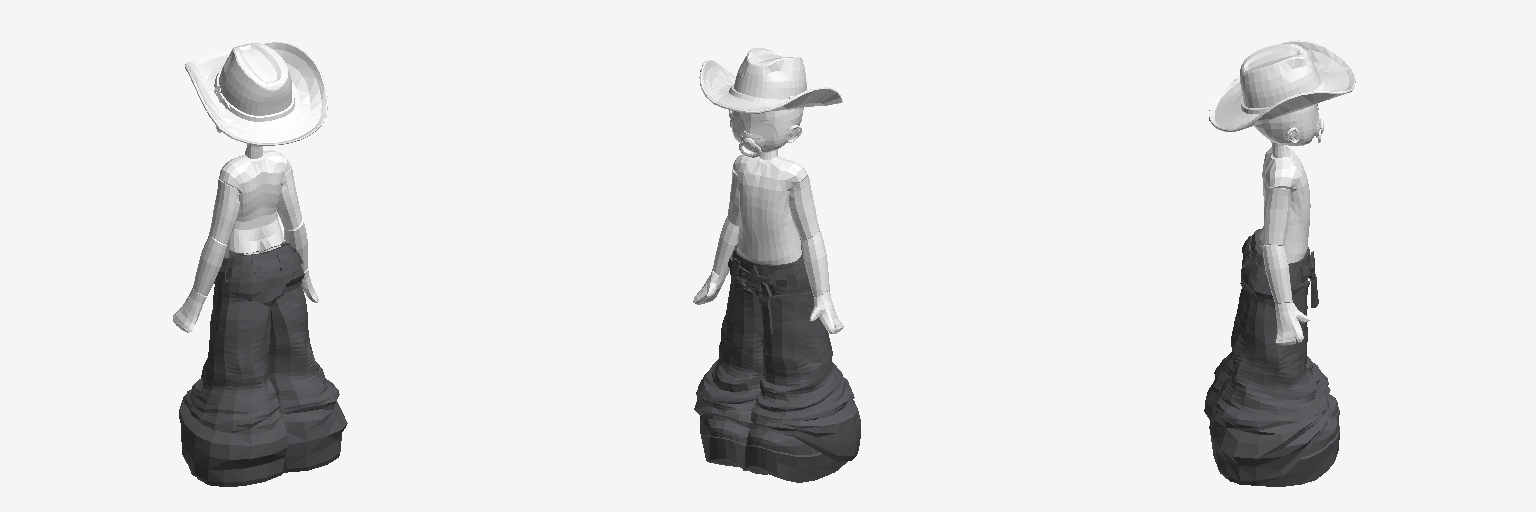
The model's file is bebo3.obj.
3 renders of one model, left to right at view 1: azimuth 30°, elevation 25°; view 2: azimuth 150°, elevation 25°; view 3: azimuth 270°, elevation 25°, orthographic.
Visible parts, largest first — view 1: Handle1, Handle3, Djbebote4, Djbebote3, Djbebote5, Djbebote8, Djbebote9, Djbebote6; view 2: Handle1, Handle3, Djbebote4, Djbebote1, Djbebote3, Djbebote5, Djbebote6, Djbebote9, Djbebote7; view 3: Handle1, Handle3, Djbebote4, Djbebote1, Djbebote8, Djbebote6, Djbebote7.
Part boxes in pixels (x1,y1,x2,y2): Handle1: (179, 242, 347, 486); Handle3: (185, 42, 327, 145); Djbebote4: (219, 150, 290, 253); Djbebote3: (209, 179, 239, 244); Djbebote5: (193, 235, 226, 295); Djbebote8: (277, 166, 301, 229); Djbebote9: (173, 288, 206, 332); Djbebote6: (284, 219, 307, 271); Handle1: (694, 239, 860, 482); Handle3: (699, 48, 842, 113); Djbebote4: (733, 153, 807, 260); Djbebote1: (729, 108, 803, 159); Djbebote3: (789, 176, 819, 240); Djbebote5: (801, 231, 829, 296); Djbebote6: (713, 216, 738, 275); Djbebote9: (810, 291, 843, 333); Djbebote7: (693, 269, 725, 304); Handle1: (1204, 229, 1339, 486); Handle3: (1209, 40, 1355, 131); Djbebote4: (1259, 147, 1310, 253); Djbebote1: (1254, 104, 1318, 157); Djbebote8: (1263, 187, 1290, 245); Djbebote6: (1262, 244, 1292, 303); Djbebote7: (1275, 303, 1309, 345).
Size of the model in its own units: 2.69 by 7.01 by 2.35.